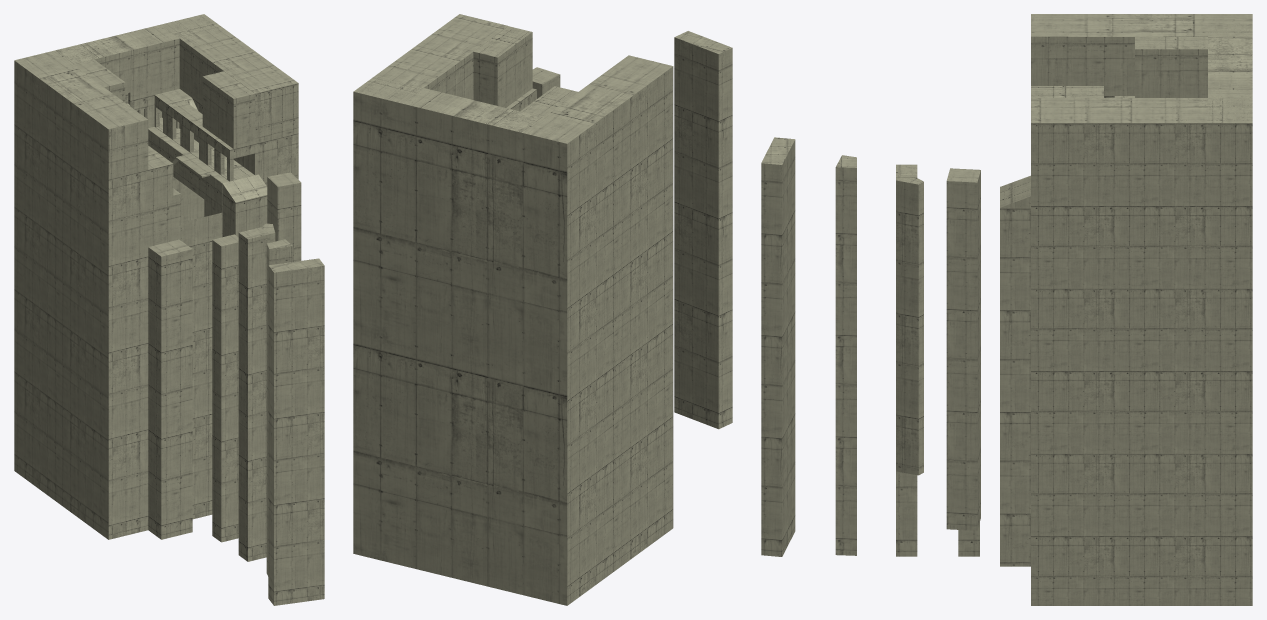
File: SM_NeoLD_00_Block_00.fbx
3 renders of one model, left to right at view 1: azimuth 30°, elevation 25°; view 2: azimuth 150°, elevation 25°; view 3: azimuth 270°, elevation 25°, orthographic. The views are drawn at different scales.
Parts seen in each view (by area): view 1: SM_NeoLD_00_Block_00, SM_NeoLD_00_Block_04; view 2: SM_NeoLD_00_Block_04, SM_NeoLD_00_Block_00; view 3: SM_NeoLD_00_Block_00, SM_NeoLD_00_Block_04.
Boxes of the visible parts, x1,y1,x2,y2 form: SM_NeoLD_00_Block_00: (14,14,324,373); SM_NeoLD_00_Block_04: (14,193,324,605); SM_NeoLD_00_Block_04: (353,150,732,605); SM_NeoLD_00_Block_00: (353,14,732,343); SM_NeoLD_00_Block_00: (761,14,1252,566); SM_NeoLD_00_Block_04: (761,245,1252,605).
Bounding box in the file's own units: 4150 × 8569 × 7905.
